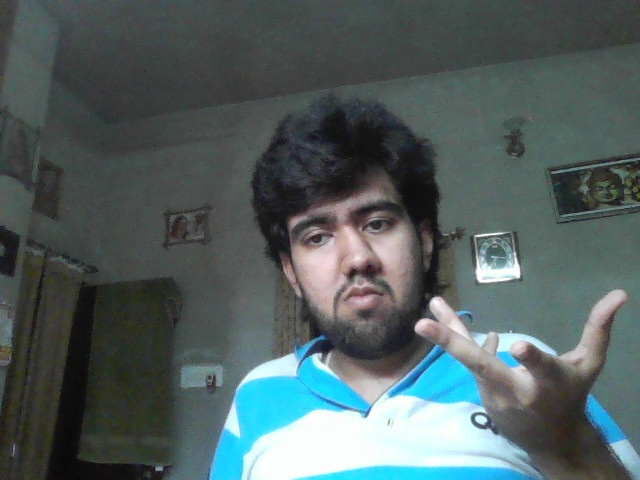What: (413, 288, 628, 433)
